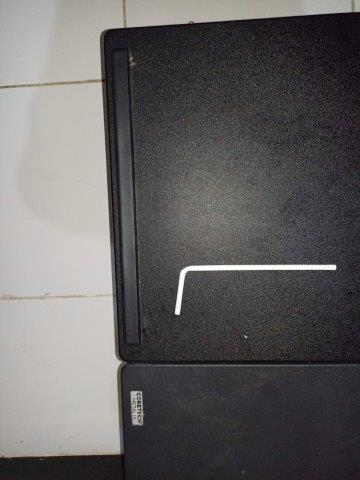sedotan: (174, 264, 336, 315)
